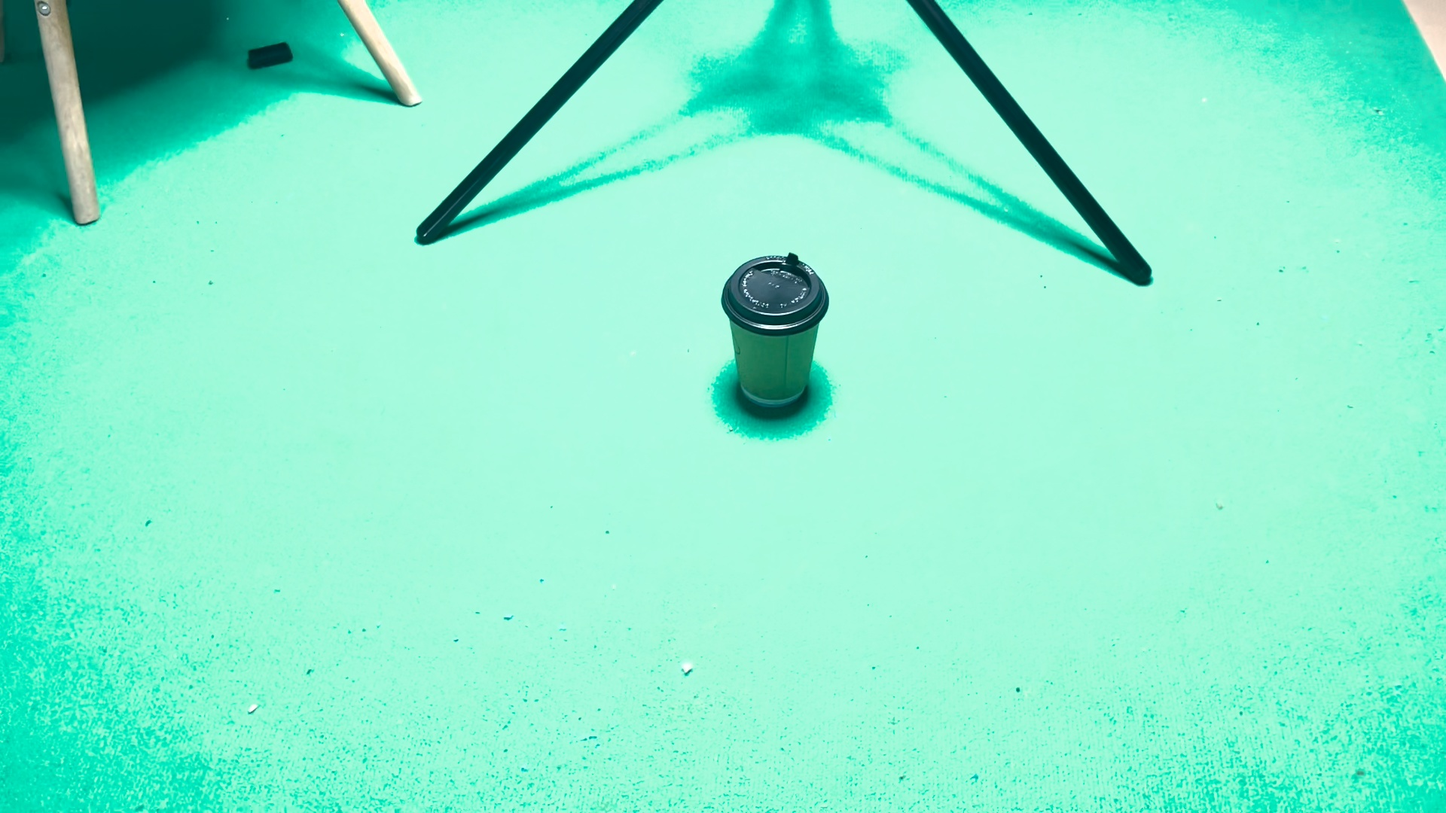cup: (742, 428, 835, 545)
